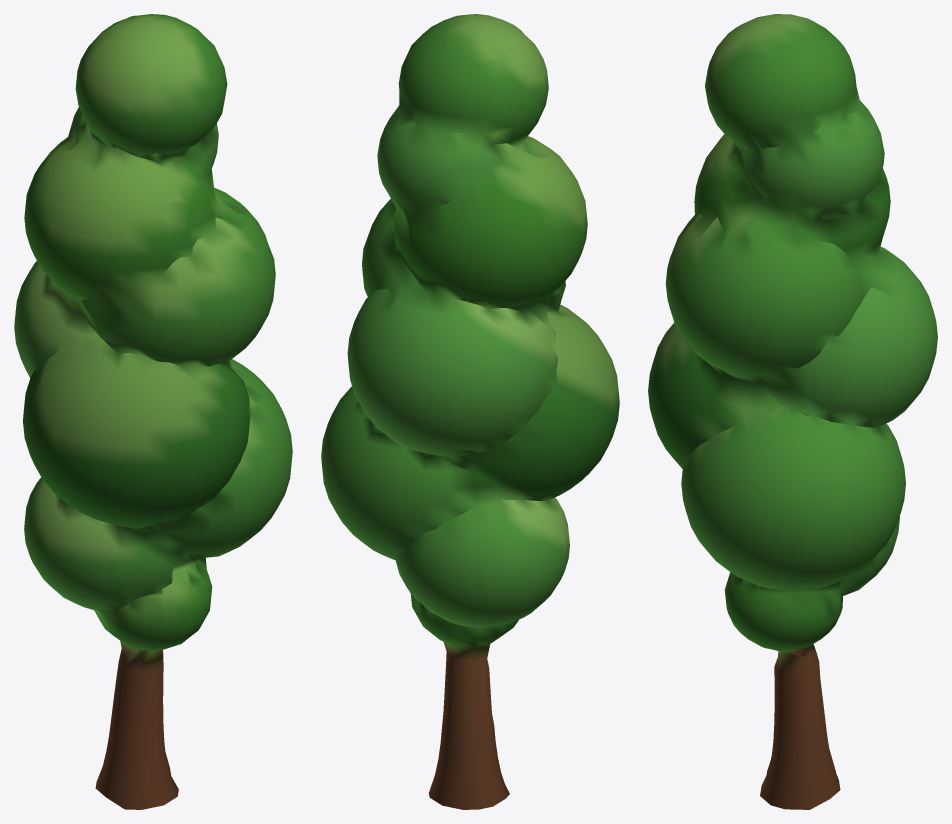
Rendered from tall-tree-lod1.obj.
3 views of the same model, side by side, from view 1: azimuth 30°, elevation 25°; view 2: azimuth 150°, elevation 25°; view 3: azimuth 270°, elevation 25° (orthographic).
Visible parts, largest first — view 1: simplified; view 2: simplified; view 3: simplified.
Part boxes in pixels (left/top/right/bottom): simplified: left=14, top=14, right=292, bottom=809; simplified: left=321, top=14, right=619, bottom=809; simplified: left=648, top=14, right=937, bottom=809.
Bounding box in the file's own units: 210 × 609 × 207.
